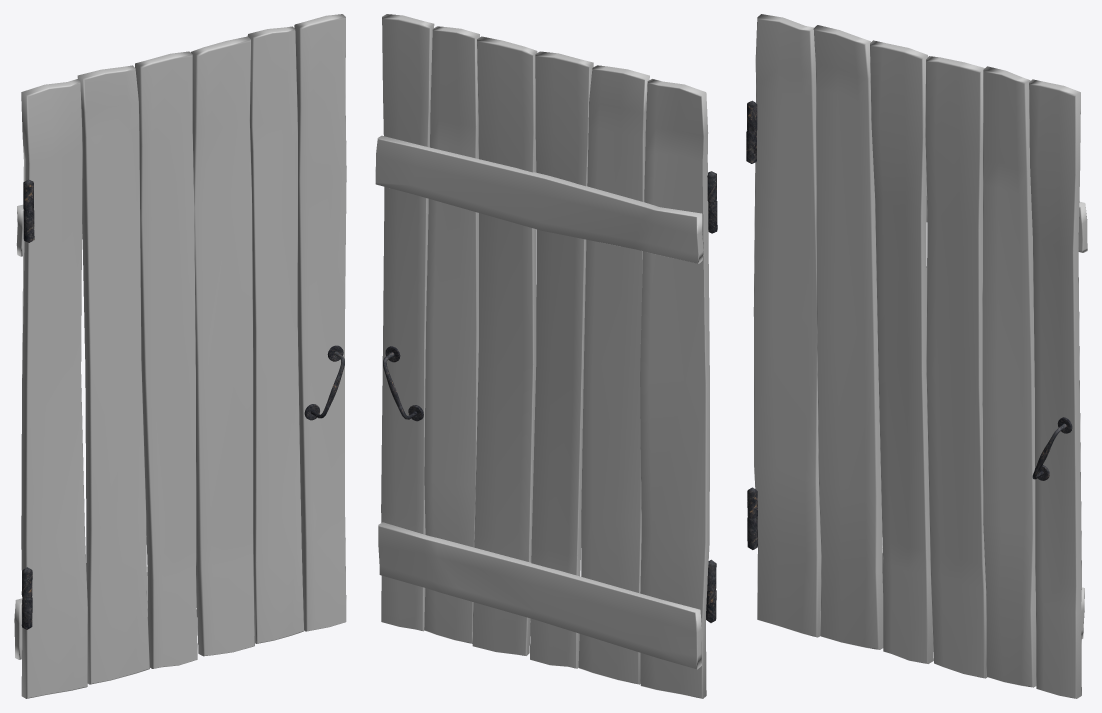
Rendered from Door01.fbx.
The picture shows the model from 3 angles, left to right: view 1: azimuth 30°, elevation 25°; view 2: azimuth 150°, elevation 25°; view 3: azimuth 330°, elevation 25°; orthographic projection.
Visible parts, largest first — view 1: Door01.001; view 2: Door01.001; view 3: Door01.001.
Part boxes in pixels (box(x1,y1,x2,y2)): Door01.001: box(14, 14, 346, 698); Door01.001: box(375, 14, 717, 698); Door01.001: box(746, 14, 1087, 698).
Bounding box in the file's own units: 131 × 234 × 20.3.
